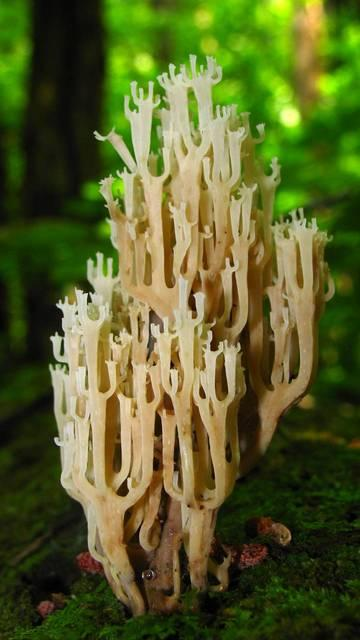Edible Mushroom: (47, 52, 335, 616)
